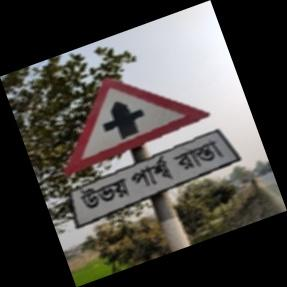Crossroad: (62, 77, 238, 233)
